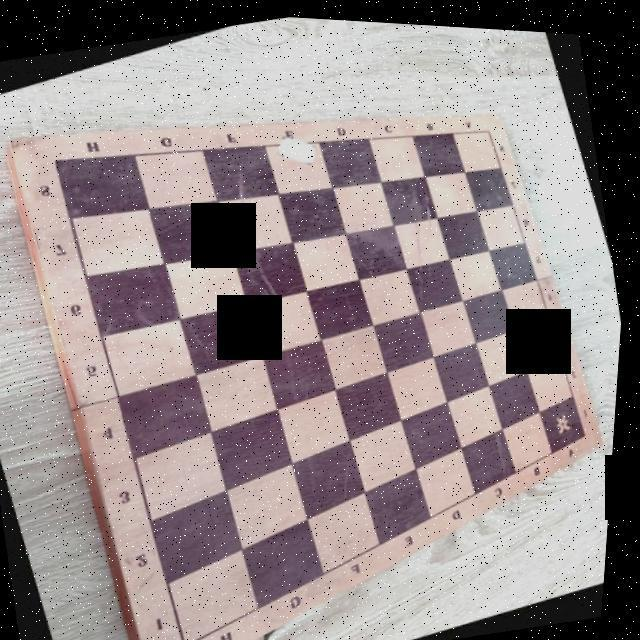chess-table-corners: (49, 148, 70, 170), (580, 420, 598, 435), (178, 631, 208, 640), (480, 118, 498, 132)
